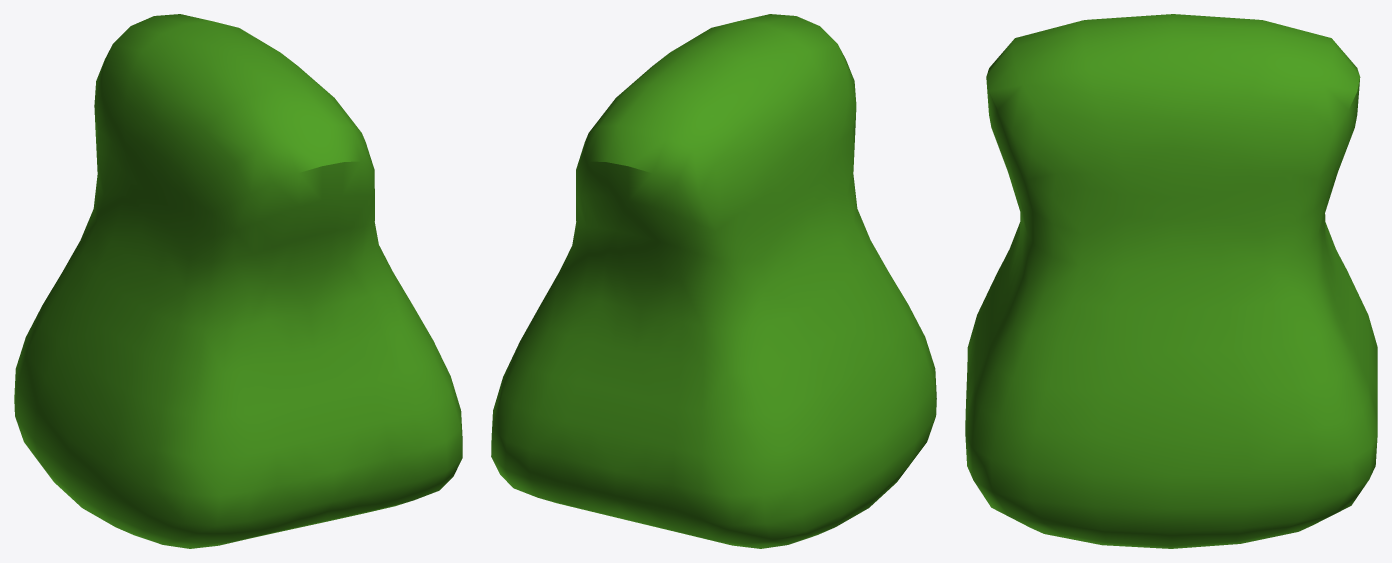
File: Bush 8.fbx
3 views of the same model, side by side, from view 1: azimuth 30°, elevation 25°; view 2: azimuth 150°, elevation 25°; view 3: azimuth 270°, elevation 25° (orthographic). The views are drawn at different scales.
Parts seen in each view (by area): view 1: Cube; view 2: Cube; view 3: Cube.
Boxes of the visible parts, <box> form: Cube: <box>14,14,462,548</box>; Cube: <box>491,14,936,548</box>; Cube: <box>965,14,1377,548</box>.
Size of the model in its own units: 194 by 240 by 195.
